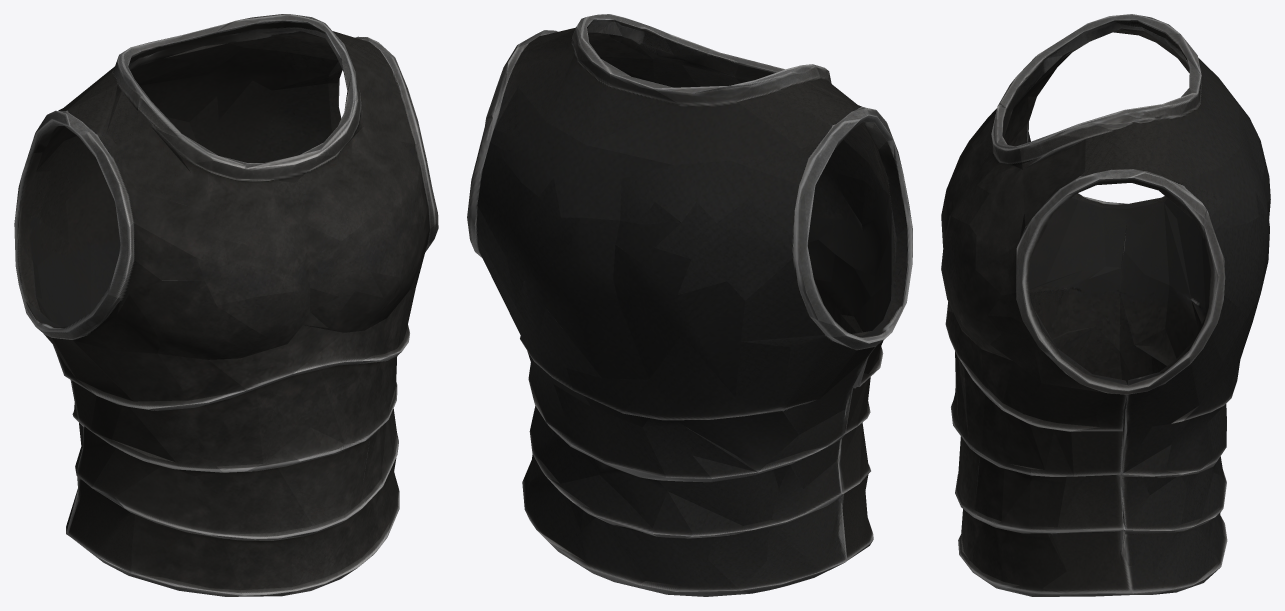
File: cuirass.glb
3 renders of one model, left to right at view 1: azimuth 30°, elevation 25°; view 2: azimuth 150°, elevation 25°; view 3: azimuth 270°, elevation 25°, orthographic. The views are drawn at different scales.
Parts seen in each view (by area): view 1: Mesh_0; view 2: Mesh_0; view 3: Mesh_0.
Part boxes in pixels (x1,y1,x2,y2): Mesh_0: [14, 14, 438, 596]; Mesh_0: [467, 14, 912, 596]; Mesh_0: [941, 14, 1270, 596].
Size of the model in its own units: 1.53 by 1.9 by 1.16.
Materials: 1 (1 with a texture image).
